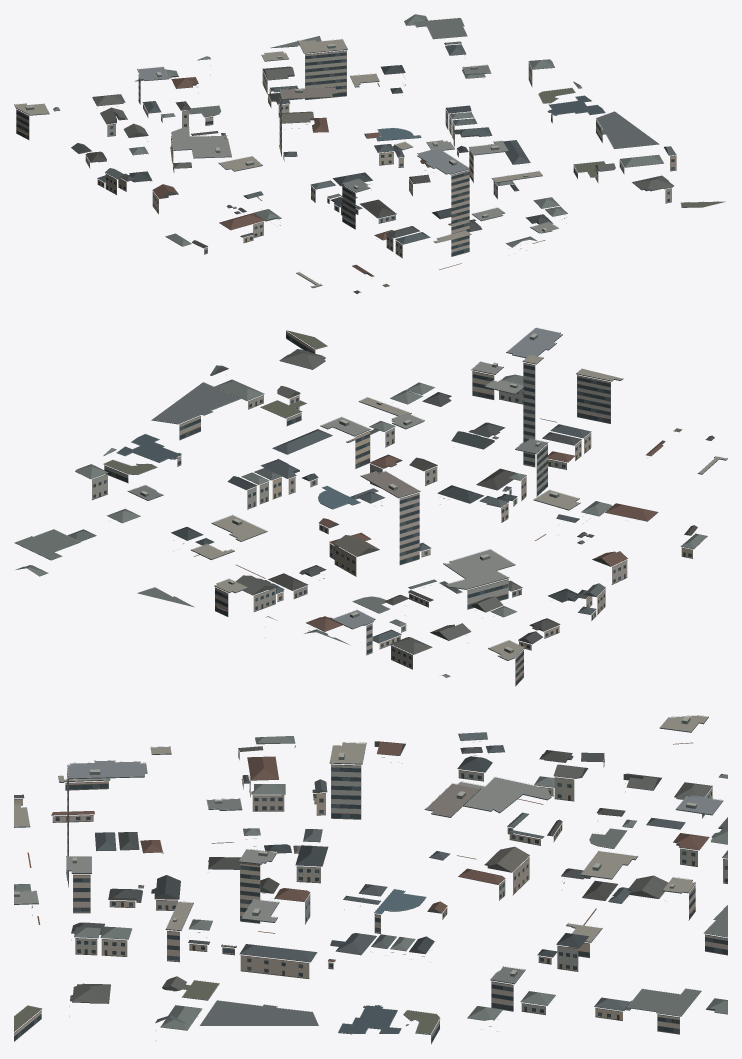
3 views of the same model, one above another, from view 1: azimuth 30°, elevation 25°; view 2: azimuth 150°, elevation 25°; view 3: azimuth 270°, elevation 25° (orthographic). The views are drawn at different scales.
Visible parts, largest first — view 1: r3-c4; view 2: r3-c4; view 3: r3-c4.
Part boxes in pixels (bbox=[...]): r3-c4: bbox=[14, 14, 725, 293]; r3-c4: bbox=[14, 327, 727, 686]; r3-c4: bbox=[14, 715, 727, 1044].
Bounding box in the file's own units: 247 × 46.97 × 250.
